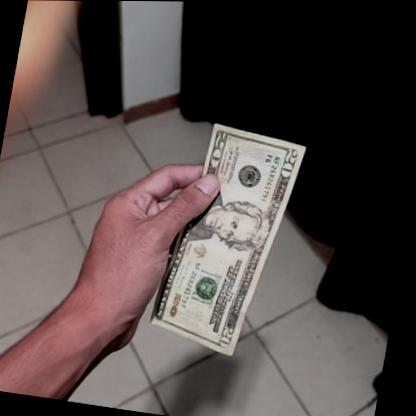twenty-front: (138, 114, 311, 363)
